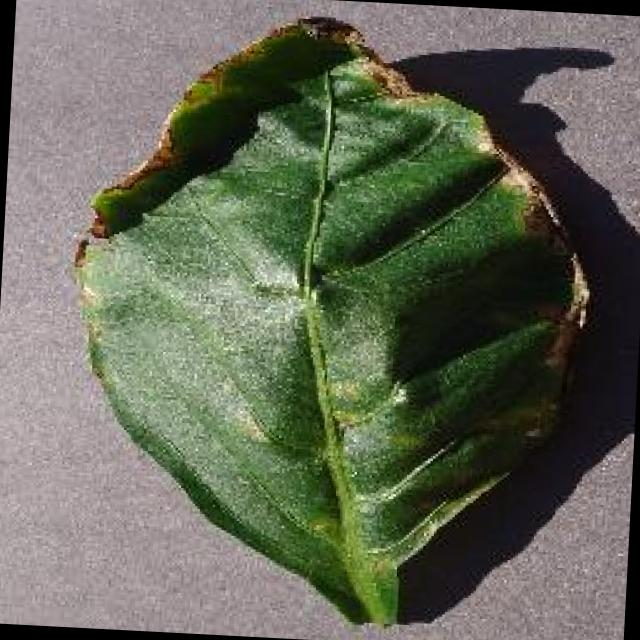Chilli_Bacterial_Spot: (49, 2, 608, 639), (69, 0, 418, 284), (289, 11, 366, 52), (66, 232, 92, 273), (84, 210, 110, 244)
